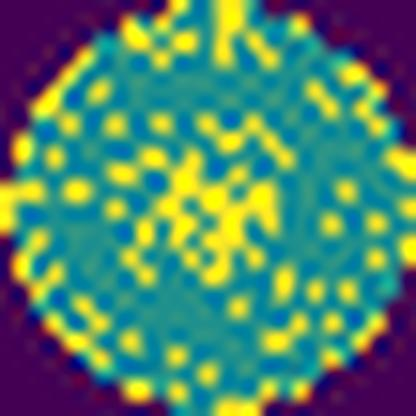Center: (108, 140, 286, 288)
